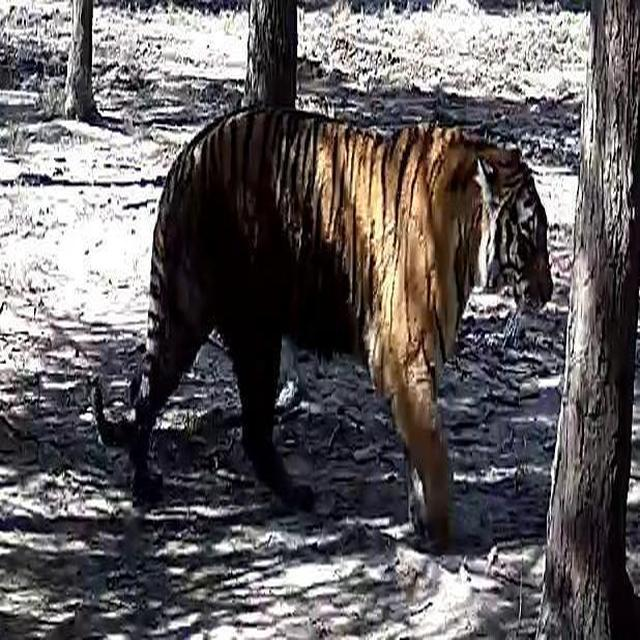tiger: (89, 102, 554, 548)
